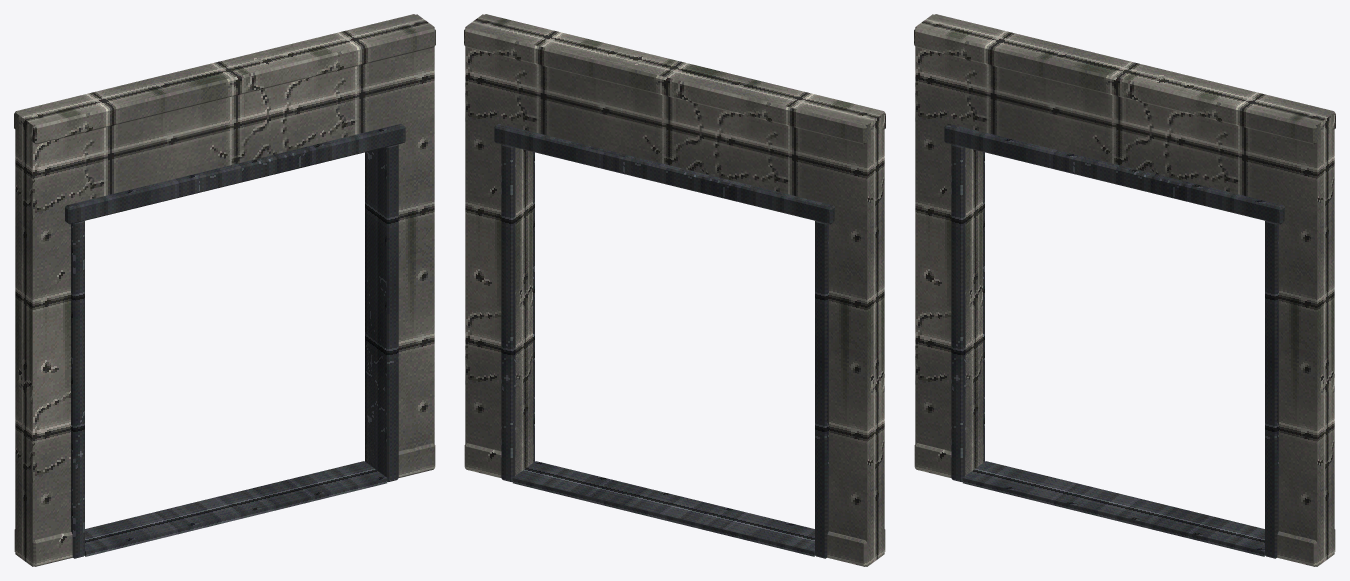
Rendered from wall_concrete_door.glb.
3 views of the same model, side by side, from view 1: azimuth 30°, elevation 25°; view 2: azimuth 150°, elevation 25°; view 3: azimuth 330°, elevation 25° (orthographic).
Parts seen in each view (by area): view 1: wall_concrete_door_mesh, wall_concrete_door_col-colonly.002, wall_concrete_door_col-colonly.001; view 2: wall_concrete_door_mesh, wall_concrete_door_col-colonly.002, wall_concrete_door_col-colonly.001; view 3: wall_concrete_door_mesh, wall_concrete_door_col-colonly.002, wall_concrete_door_col-colonly.001.
Boxes of the visible parts, x1=… form: wall_concrete_door_mesh: x1=14, y1=14, x2=435, y2=566; wall_concrete_door_col-colonly.002: x1=66, y1=26, x2=384, y2=200; wall_concrete_door_col-colonly.001: x1=367, y1=14, x2=434, y2=464; wall_concrete_door_mesh: x1=464, y1=14, x2=885, y2=566; wall_concrete_door_col-colonly.002: x1=515, y1=26, x2=833, y2=200; wall_concrete_door_col-colonly.001: x1=465, y1=14, x2=532, y2=475; wall_concrete_door_mesh: x1=914, y1=14, x2=1335, y2=566; wall_concrete_door_col-colonly.002: x1=965, y1=26, x2=1283, y2=200; wall_concrete_door_col-colonly.001: x1=1267, y1=100, x2=1334, y2=566.
Size of what is drawn, in the model's own units: 4 by 4.2 by 0.44.
2 materials, 2 textured.
